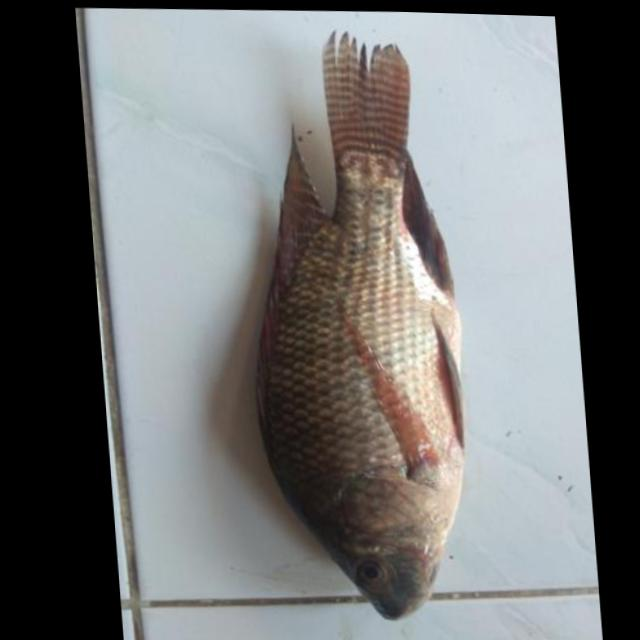Tilapia: (224, 21, 484, 616)
